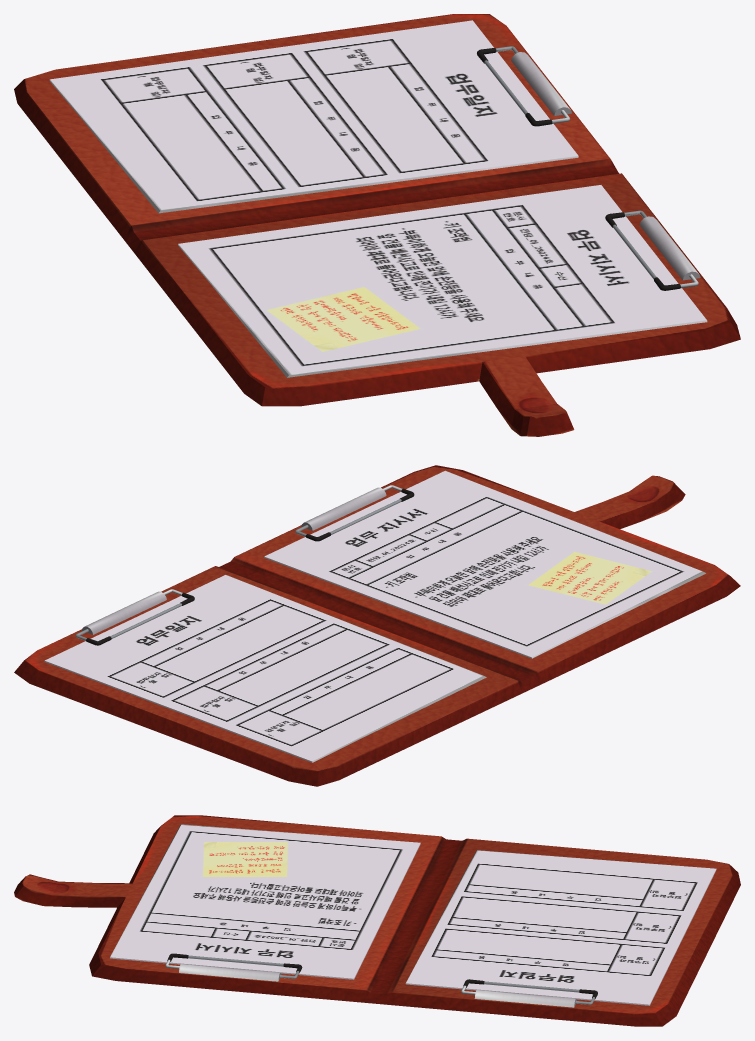
Rendered from clipboard.fbx.
3 renders of one model, top to bottom at view 1: azimuth 30°, elevation 25°; view 2: azimuth 150°, elevation 25°; view 3: azimuth 270°, elevation 25°, orthographic. The views are drawn at different scales.
Visible parts, largest first — view 1: clipboard; view 2: clipboard; view 3: clipboard.
Boxes of the visible parts, x1=… form: clipboard: x1=14, y1=14, x2=740, y2=436; clipboard: x1=14, y1=465, x2=740, y2=786; clipboard: x1=14, y1=815, x2=740, y2=1026.
Size of the model in its own units: 46.73 by 2.22 by 70.32.
